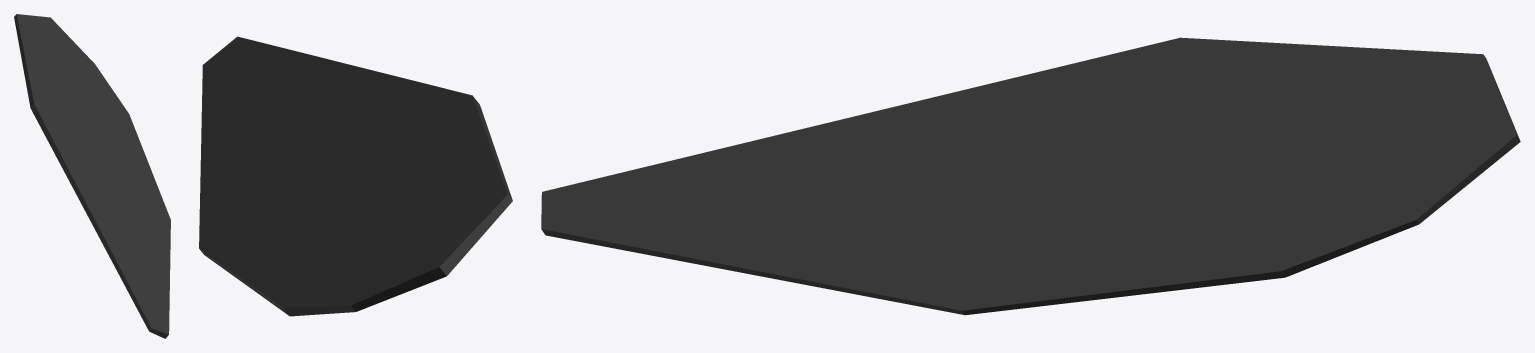
File: wingL.gltf
The picture shows the model from 3 angles, left to right: view 1: azimuth 30°, elevation 25°; view 2: azimuth 210°, elevation 25°; view 3: azimuth 270°, elevation 25°; orthographic projection. The views are drawn at different scales.
Parts seen in each view (by area): view 1: wingL; view 2: wingL; view 3: wingL.
Boxes of the visible parts, box(x1,y1,x2,y2) form: wingL: box(14, 14, 170, 338); wingL: box(199, 36, 512, 316); wingL: box(541, 37, 1520, 315).
Size of the model in its own units: 0.9989 by 0.7698 by 2.58.
